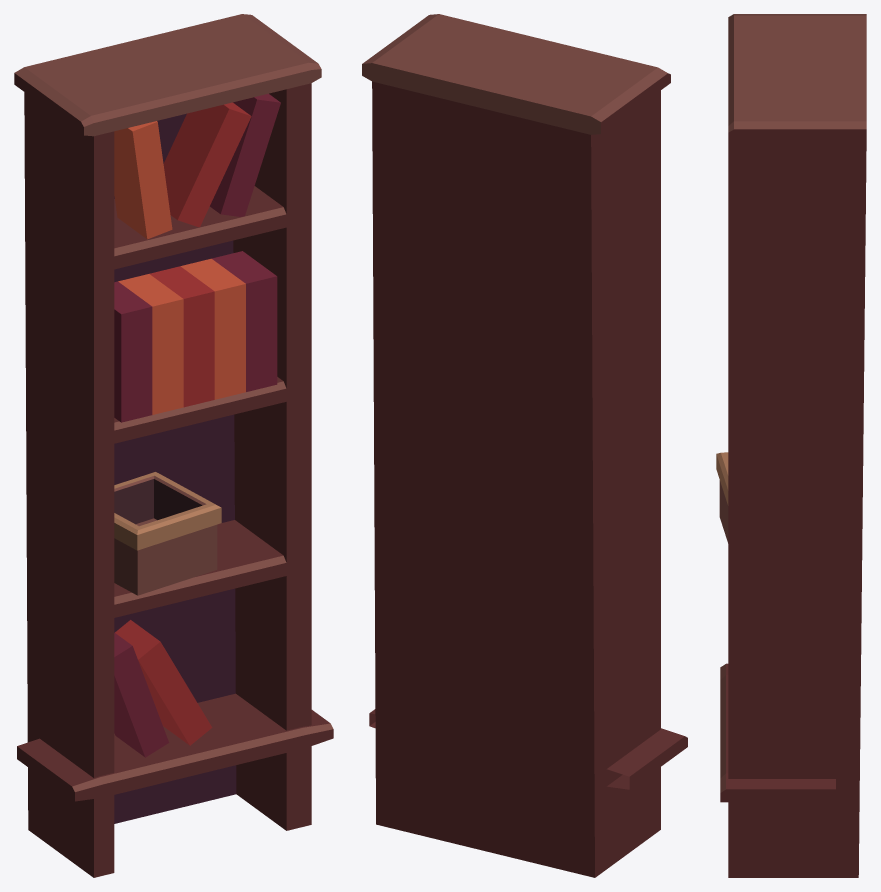
The model's file is ArmoireOffice.fbx.
The picture shows the model from 3 angles, left to right: view 1: azimuth 30°, elevation 25°; view 2: azimuth 150°, elevation 25°; view 3: azimuth 270°, elevation 25°; orthographic projection.
Visible parts, largest first — view 1: ArmoireOffice; view 2: ArmoireOffice; view 3: ArmoireOffice.
Boxes of the visible parts, box(x1,y1,x2,y2) form: ArmoireOffice: box(14, 14, 333, 877); ArmoireOffice: box(362, 14, 687, 877); ArmoireOffice: box(716, 14, 866, 877).
Size of the model in its own units: 60.64 by 170 by 30.63.
